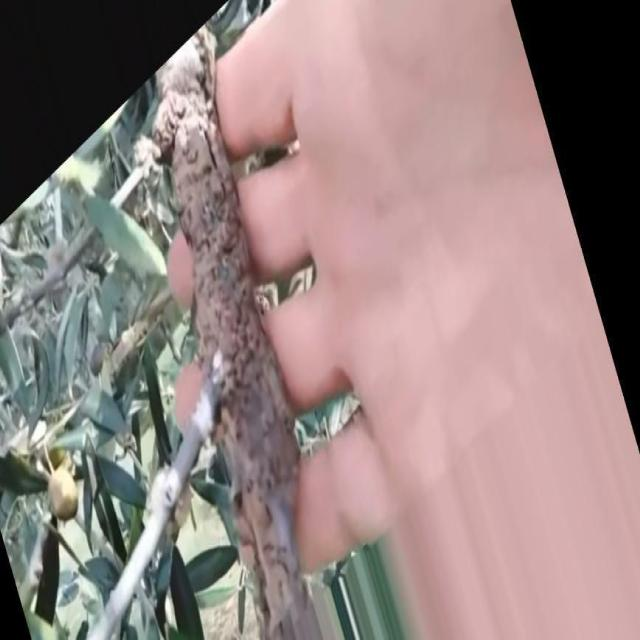Tuberculosis: (156, 71, 313, 590)
